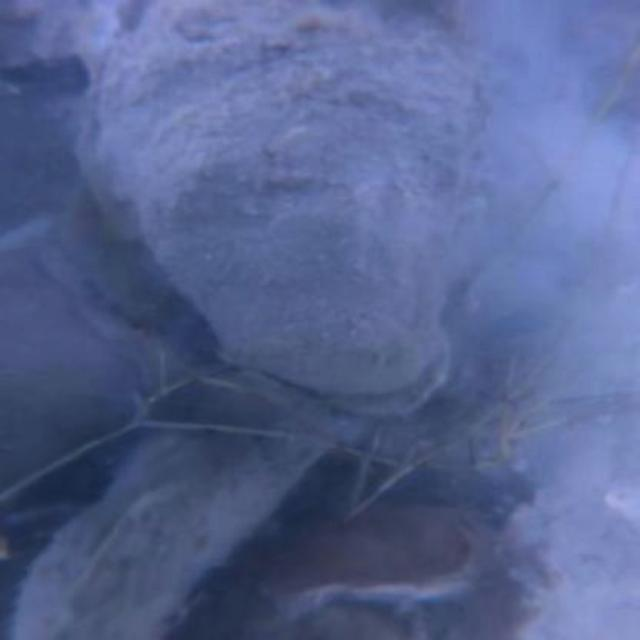Oyster-Closed: (83, 3, 499, 410), (0, 225, 139, 483), (256, 504, 493, 618)
Oyster-Open: (8, 390, 297, 635)
